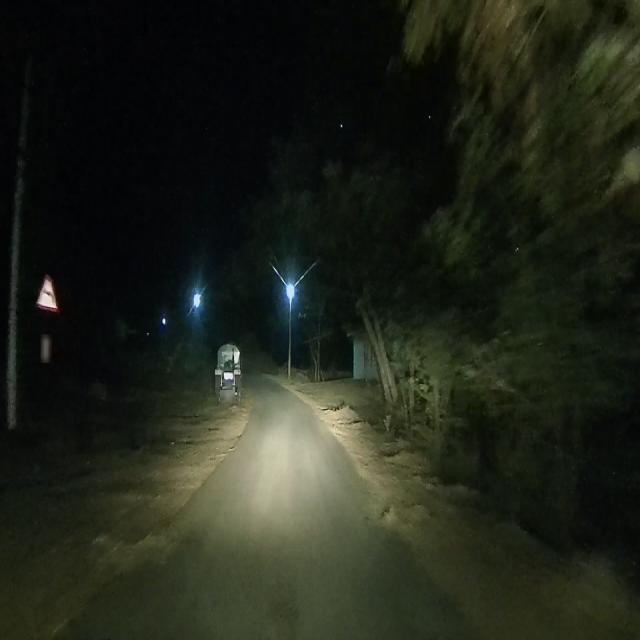left-hand-curve: (38, 271, 59, 310)
